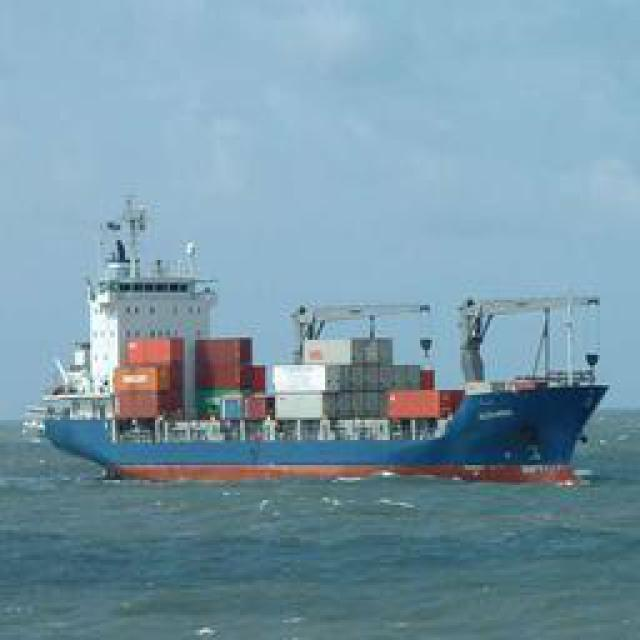Ship: (42, 289, 610, 489)
